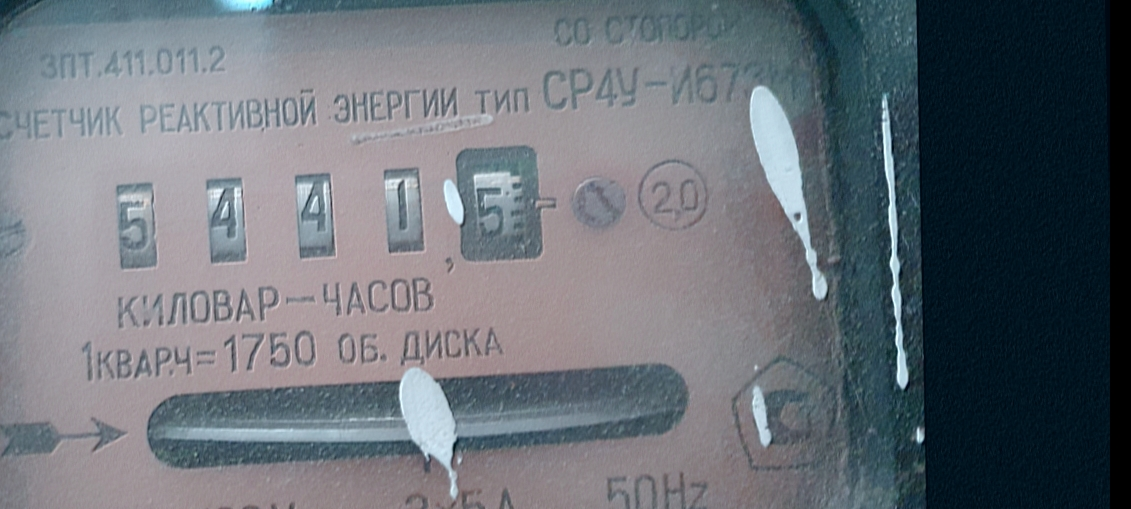1: (386, 175, 411, 233)
4: (291, 173, 329, 239), (203, 180, 239, 242)
5: (470, 179, 506, 242), (111, 195, 150, 253)
screen: (88, 122, 564, 296)
